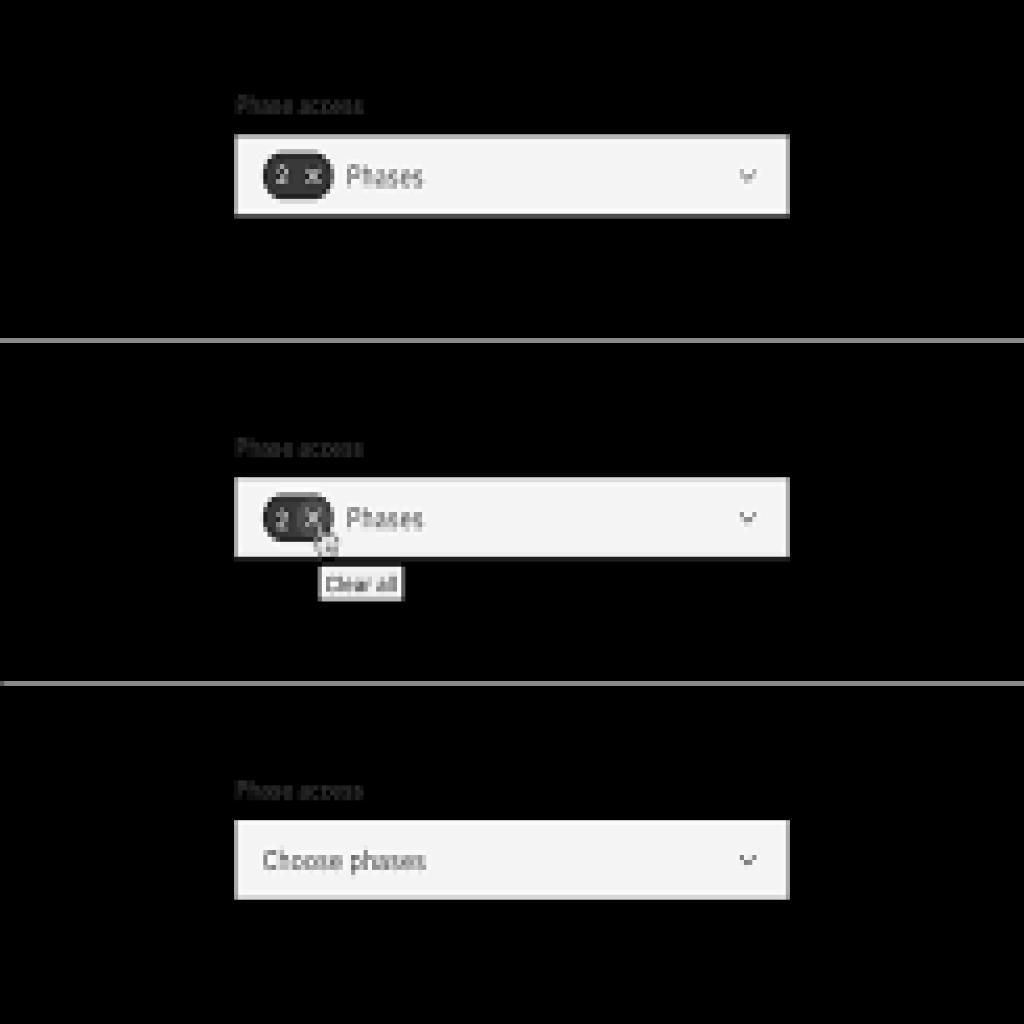dropdown: (236, 132, 791, 218), (236, 478, 791, 559), (235, 821, 792, 900)
